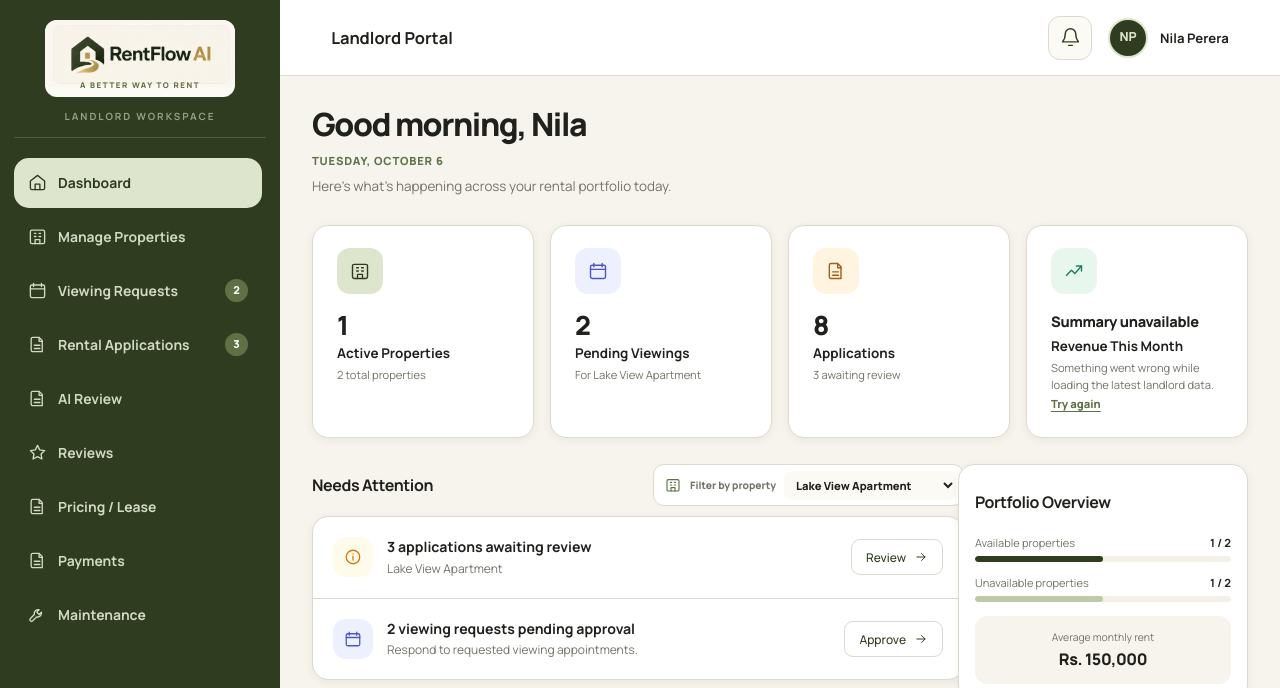
landlord dashboard redesign › retries Revenue This Month independently after a service failure
Check: the message "Something went wrong while loading the latest landlord data. Try again" is shown, box [1051,360,1223,415]
Check: the text "Rs. 0" is not shown
Step 1. Click the button "Try again" → (1076, 404), box [1051,393,1101,415]
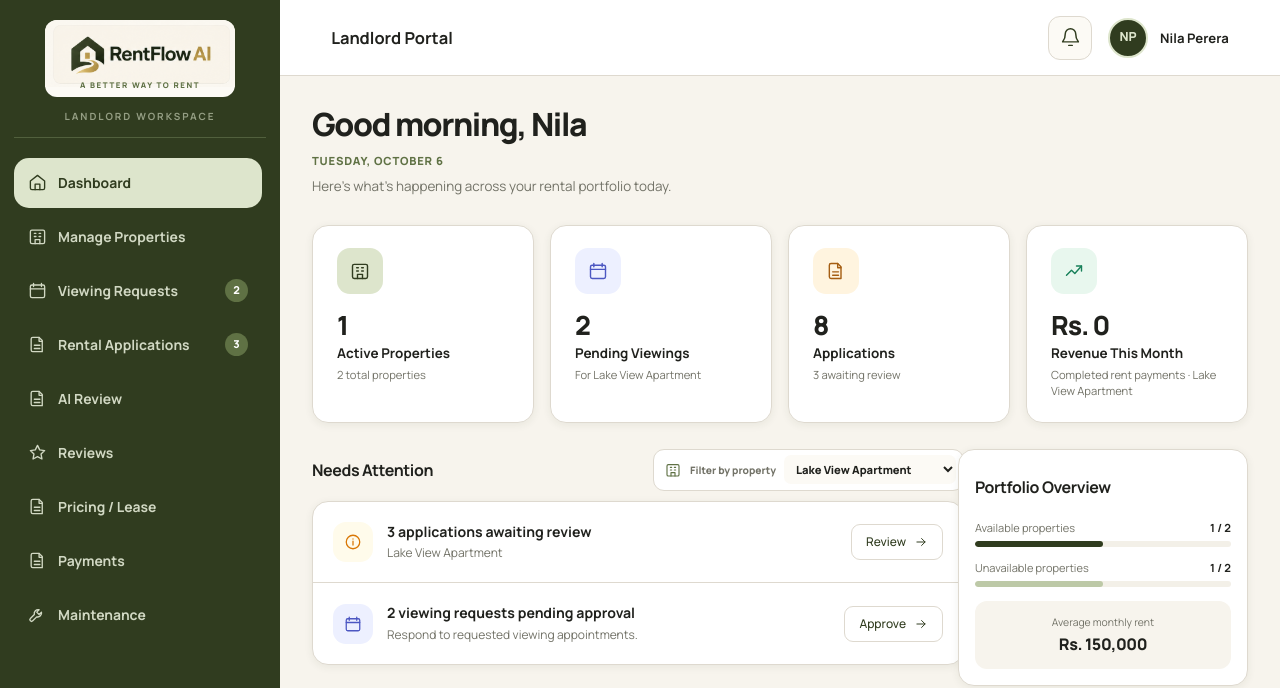
Check: the text "Rs. 0" is shown, box [1051,312,1109,338]
